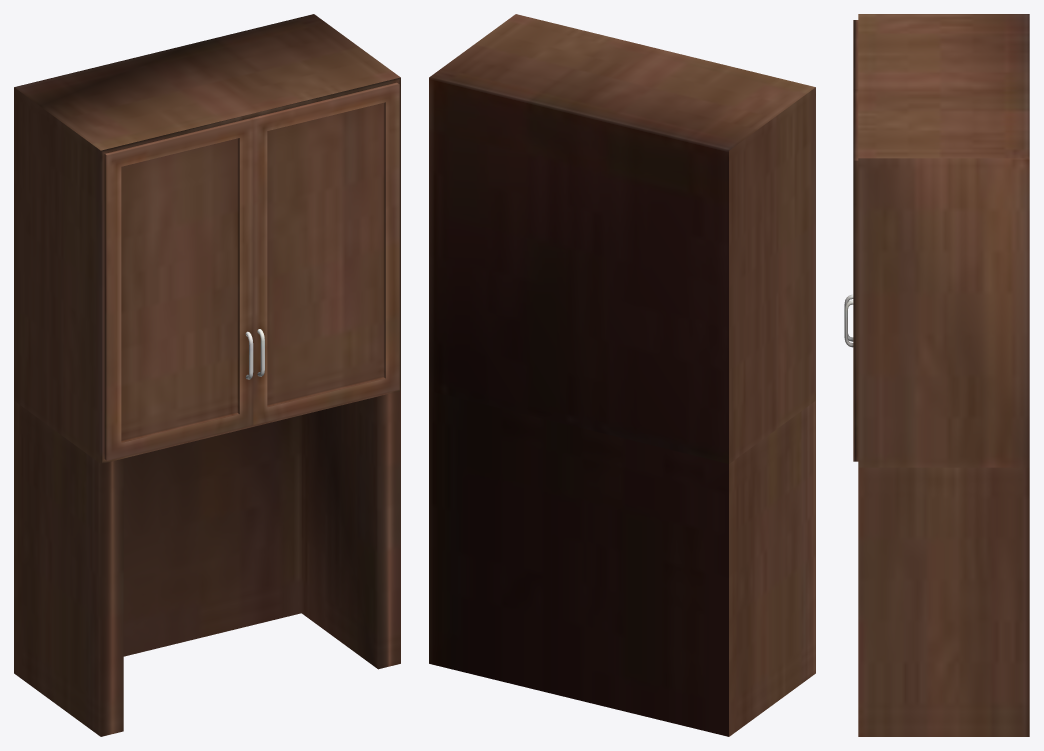
The model's file is cabinet1.glb.
The picture shows the model from 3 angles, left to right: view 1: azimuth 30°, elevation 25°; view 2: azimuth 150°, elevation 25°; view 3: azimuth 270°, elevation 25°; orthographic projection.
Visible parts, largest first — view 1: kitchenCabinet1; view 2: kitchenCabinet1; view 3: kitchenCabinet1.
Boxes of the visible parts, x1,y1,x2,y2 form: kitchenCabinet1: (14, 14, 400, 736); kitchenCabinet1: (429, 14, 815, 736); kitchenCabinet1: (844, 14, 1029, 736).
Size of what is drawn, in the model's own units: 0.9904 by 1.85 by 0.5361.
Materials: 1 (1 with a texture image).
